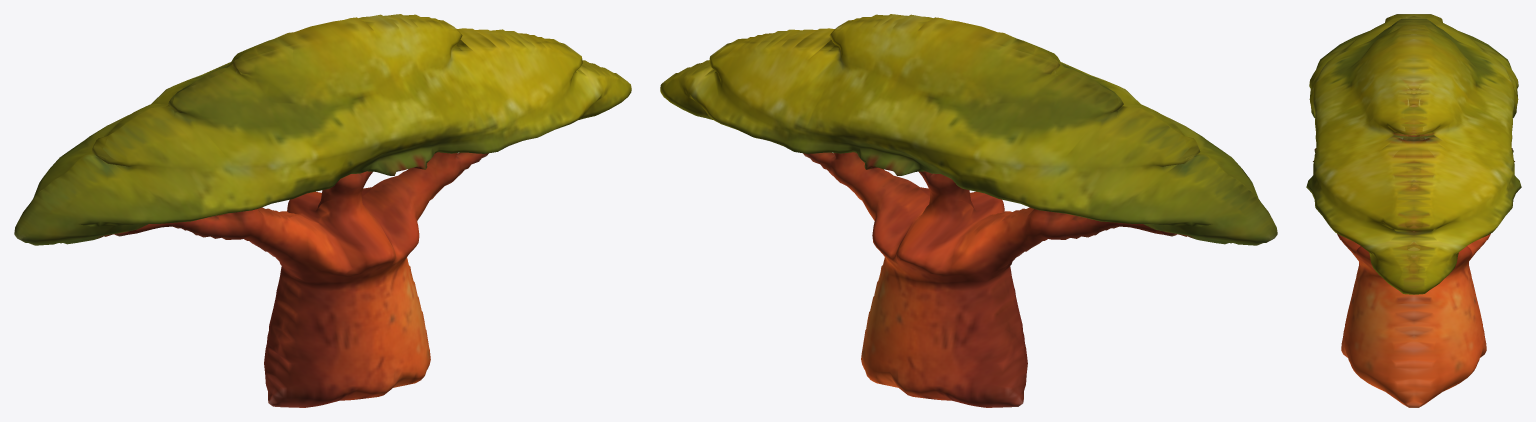
The model's file is 03_baobab_trees_r02_c03.glb.
3 renders of one model, left to right at view 1: azimuth 30°, elevation 25°; view 2: azimuth 150°, elevation 25°; view 3: azimuth 270°, elevation 25°, orthographic. The views are drawn at different scales.
Visible parts, largest first — view 1: 03_baobab_trees_r02_c03; view 2: 03_baobab_trees_r02_c03; view 3: 03_baobab_trees_r02_c03.
Part boxes in pixels (x1,y1,x2,y2): 03_baobab_trees_r02_c03: (14,14,631,407); 03_baobab_trees_r02_c03: (660,14,1277,407); 03_baobab_trees_r02_c03: (1306,14,1521,407).
Size of the model in its own units: 3.27 by 1.85 by 1.14.
Materials: 1 (1 with a texture image).
